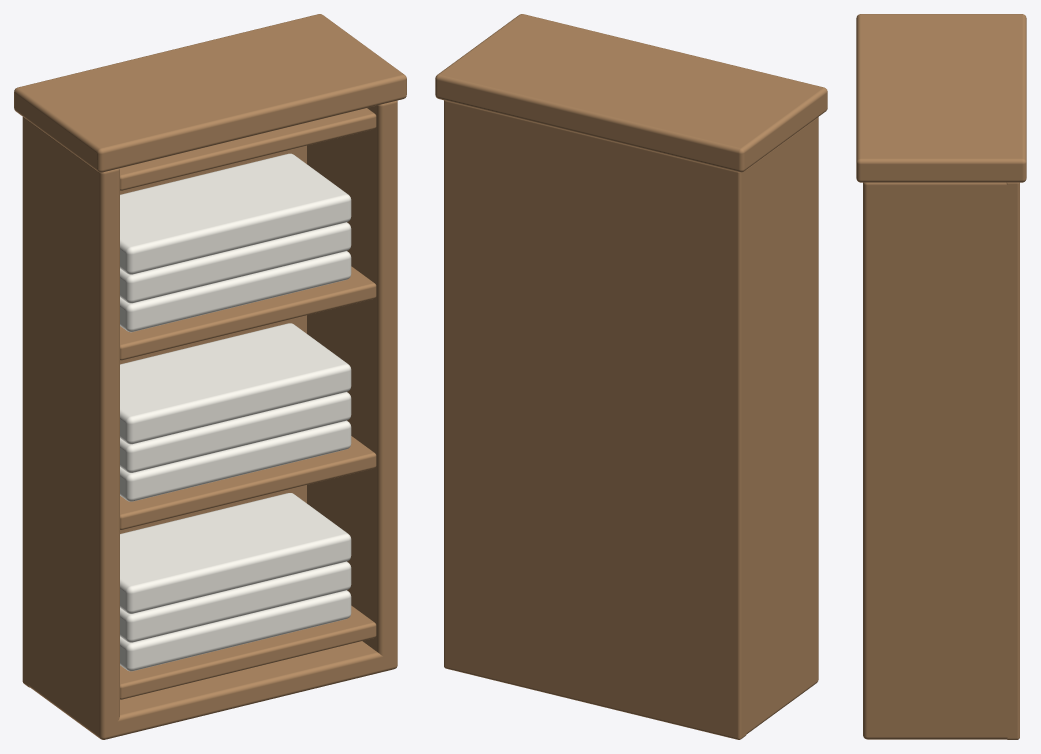
File: barbershop-and-hair-salon-towel-cabinet-e88bf533__29651.glb
3 renders of one model, left to right at view 1: azimuth 30°, elevation 25°; view 2: azimuth 150°, elevation 25°; view 3: azimuth 270°, elevation 25°, orthographic. The views are drawn at different scales.
Parts seen in each view (by area): view 1: towel-cabinet; view 2: towel-cabinet; view 3: towel-cabinet.
Boxes of the visible parts, x1,y1,x2,y2 form: towel-cabinet: (14, 14, 406, 739); towel-cabinet: (435, 14, 827, 739); towel-cabinet: (856, 14, 1026, 739).
Bounding box in the file's own units: 0.9351 × 1.72 × 0.4551.
